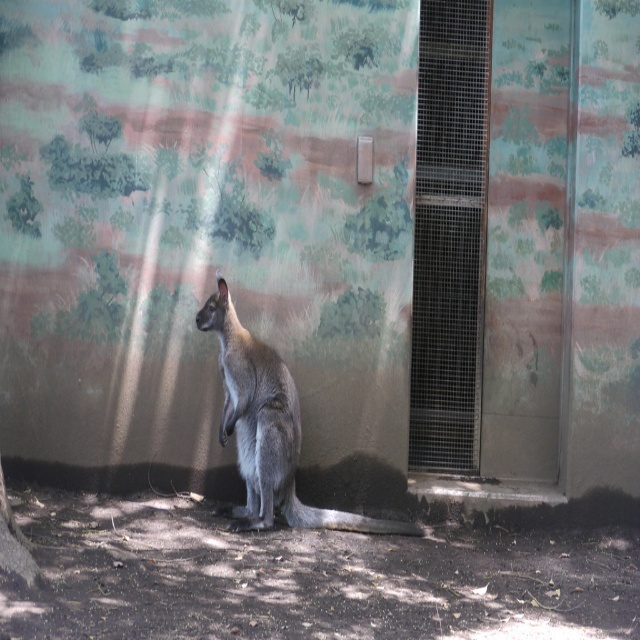Kangaroo: (197, 279, 428, 540)
